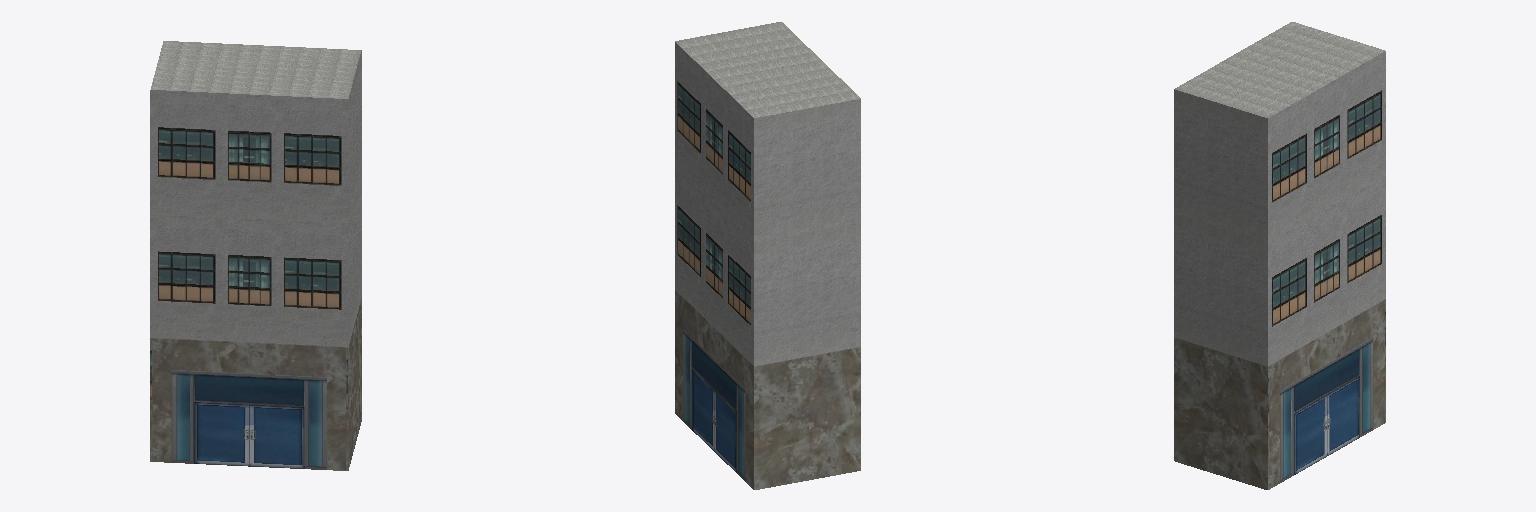
3 renders of one model, left to right at view 1: azimuth 30°, elevation 25°; view 2: azimuth 150°, elevation 25°; view 3: azimuth 270°, elevation 25°, orthographic.
Parts seen in each view (by area): view 1: BuildingMaster_[number redacted]_0, BuildingMaster_[number redacted]_1; view 2: BuildingMaster_[number redacted]_0, BuildingMaster_[number redacted]_1; view 3: BuildingMaster_[number redacted]_0, BuildingMaster_[number redacted]_1.
Boxes of the visible parts, x1=… form: BuildingMaster_[number redacted]_0: x1=150, y1=50, x2=361, y2=470; BuildingMaster_[number redacted]_1: x1=151, y1=41, x2=360, y2=98; BuildingMaster_[number redacted]_0: x1=675, y1=42, x2=860, y2=489; BuildingMaster_[number redacted]_1: x1=675, y1=22, x2=860, y2=117; BuildingMaster_[number redacted]_0: x1=1174, y1=51, x2=1385, y2=489; BuildingMaster_[number redacted]_1: x1=1175, y1=22, x2=1384, y2=117.
Size of the model in its own units: 5.87 by 10.5 by 5.43.
Materials: 2 (2 with a texture image).